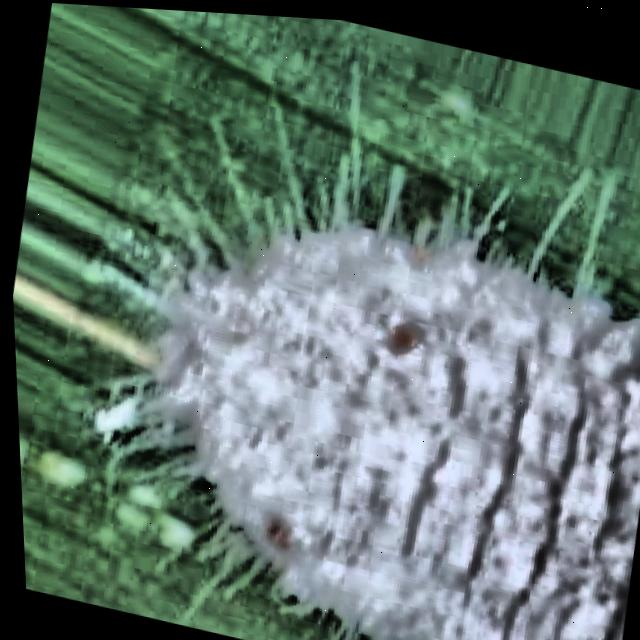Mealy-bug: (14, 67, 640, 640)
